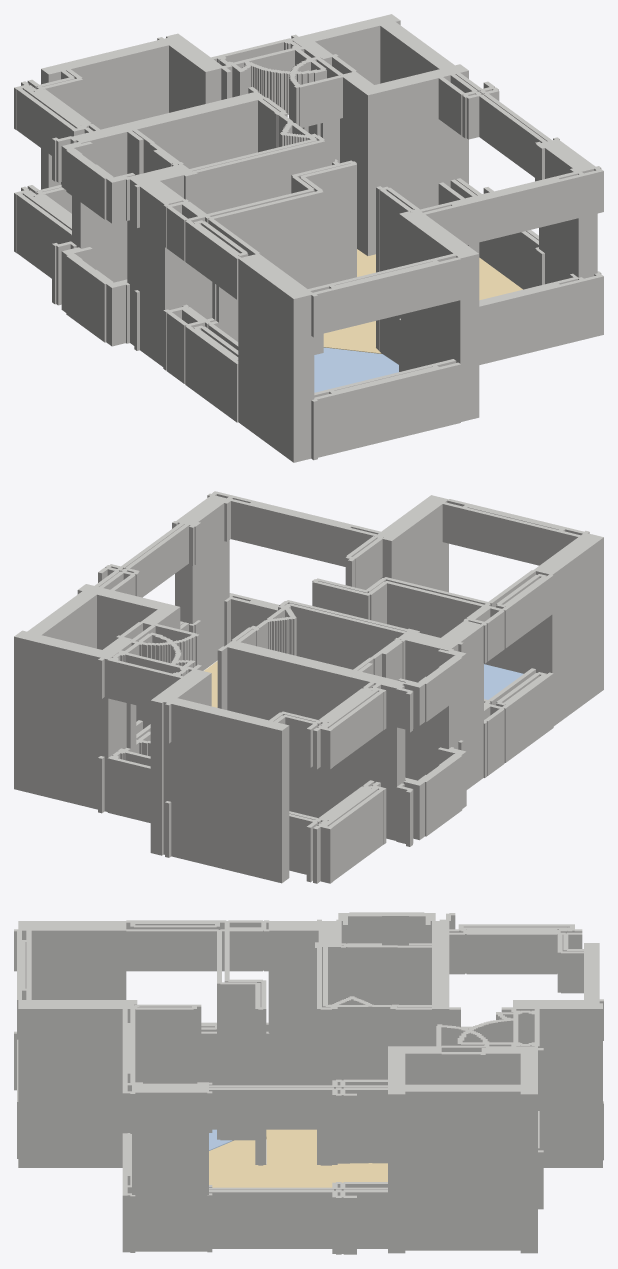
3 renders of one model, top to bottom at view 1: azimuth 30°, elevation 25°; view 2: azimuth 150°, elevation 25°; view 3: azimuth 270°, elevation 25°, orthographic. The views are drawn at different scales.
Parts seen in each view (by area): view 1: walls, room:living:3, room:bedroom:6; view 2: walls, room:bedroom:6; view 3: walls, room:living:3.
Part boxes in pixels (x1,y1,x2,y2): walls: (14,14,603,462); room:living:3: (323,249,522,353); room:bedroom:6: (314,347,398,392); walls: (14,491,603,883); room:bedroom:6: (484,664,523,699); walls: (14,912,603,1254); room:living:3: (209,1129,387,1187).
Bounding box in the file's own units: 6.93 × 2.8 × 9.42.
